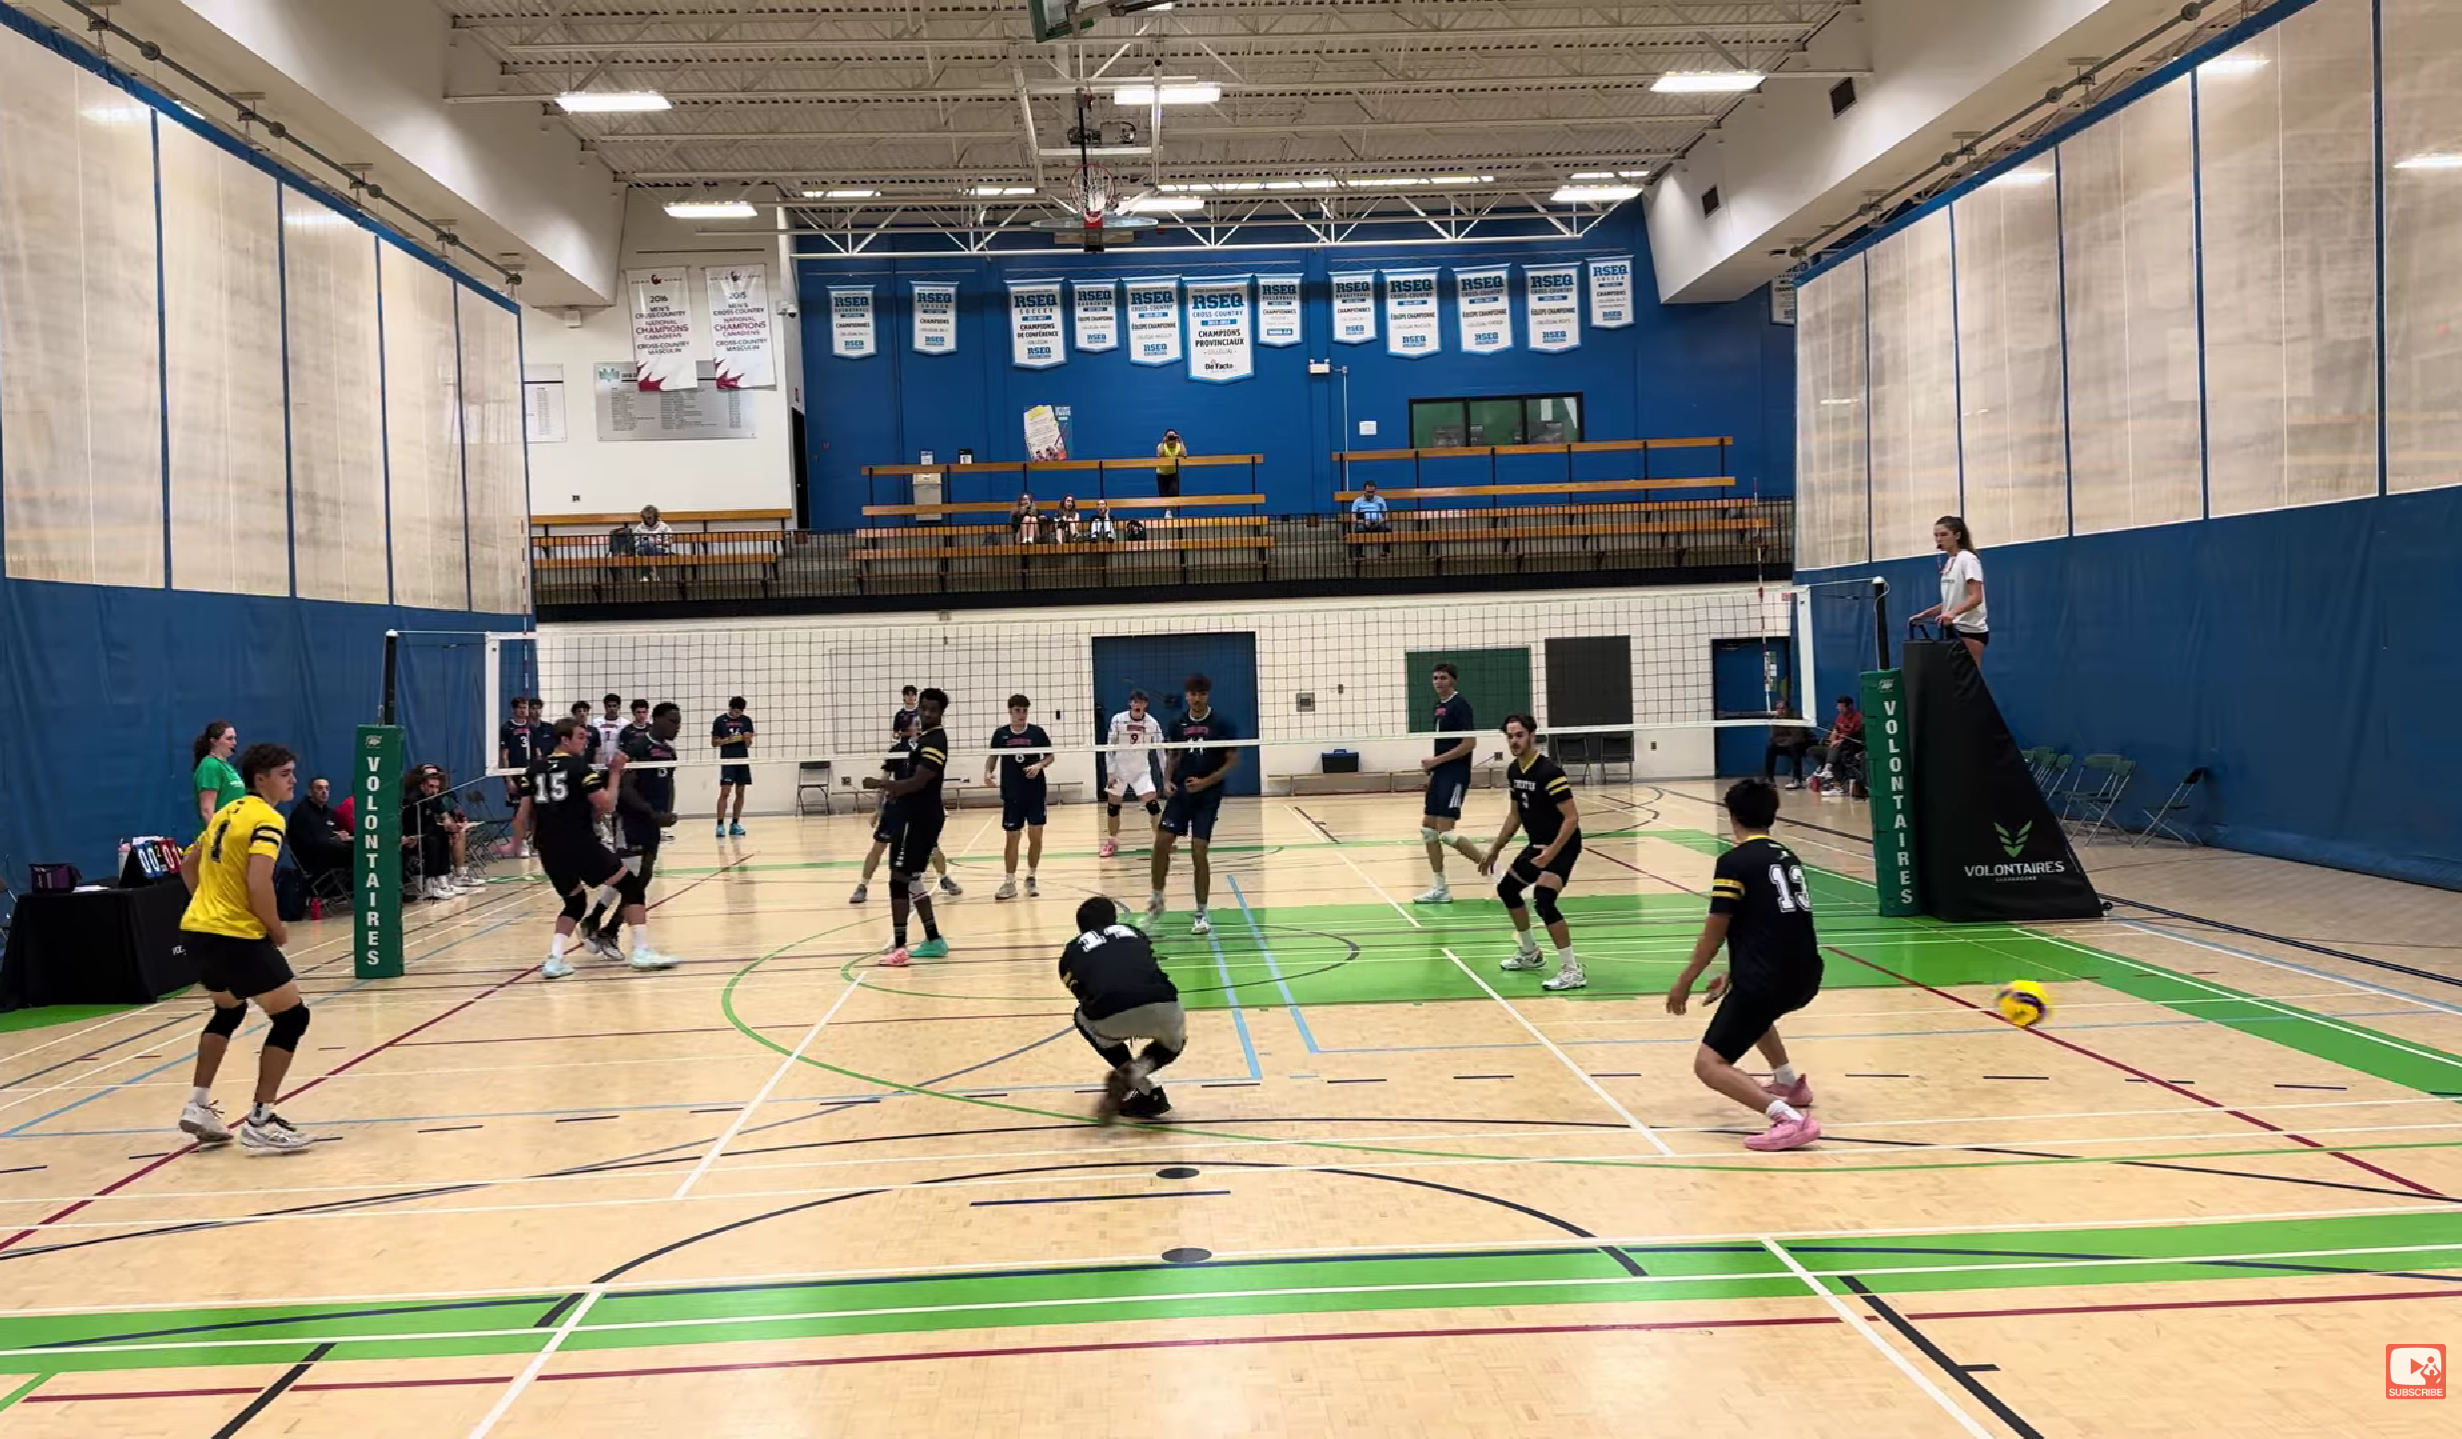Ball: (1993, 976, 2055, 1030)
